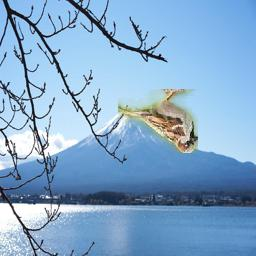Sparrow: (118, 89, 198, 153)
